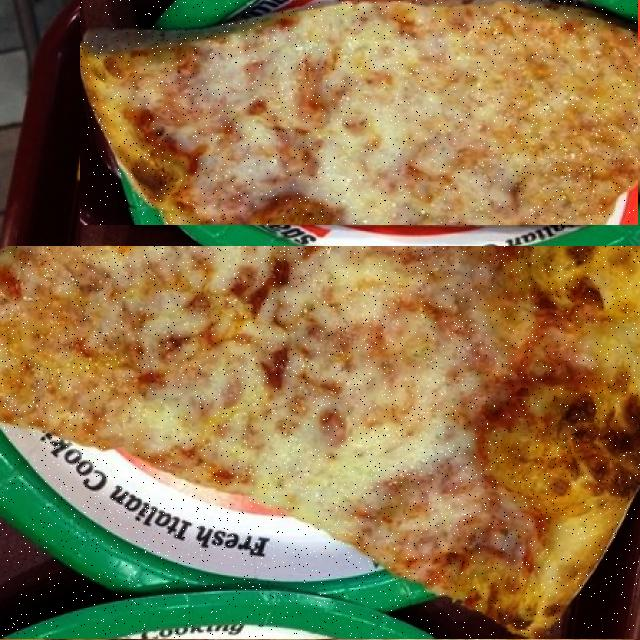Pizza: (0, 247, 640, 638), (80, 0, 639, 225)
